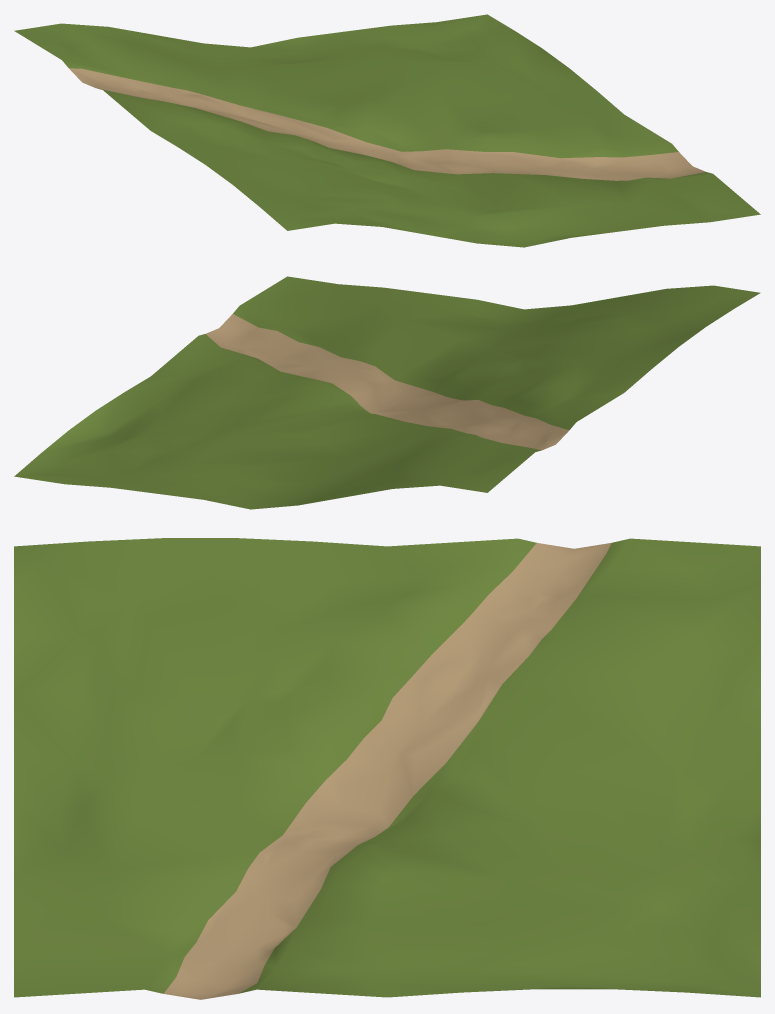
The model's file is rpgpp_ag_terrain_path_10_20x20m_slope_3-1m.fbx.
3 views of the same model, one above another, from view 1: azimuth 30°, elevation 25°; view 2: azimuth 150°, elevation 25°; view 3: azimuth 270°, elevation 25° (orthographic). The views are drawn at different scales.
Visible parts, largest first — view 1: rpgpp_ag_terrain_path_10_20x20m_slope_3-1m; view 2: rpgpp_ag_terrain_path_10_20x20m_slope_3-1m; view 3: rpgpp_ag_terrain_path_10_20x20m_slope_3-1m.
Boxes of the visible parts, box(x1,y1,x2,y2) form: rpgpp_ag_terrain_path_10_20x20m_slope_3-1m: box(14, 14, 760, 247); rpgpp_ag_terrain_path_10_20x20m_slope_3-1m: box(14, 276, 760, 509); rpgpp_ag_terrain_path_10_20x20m_slope_3-1m: box(14, 538, 760, 999).
Size of the model in its own units: 20 by 4.45 by 20.
